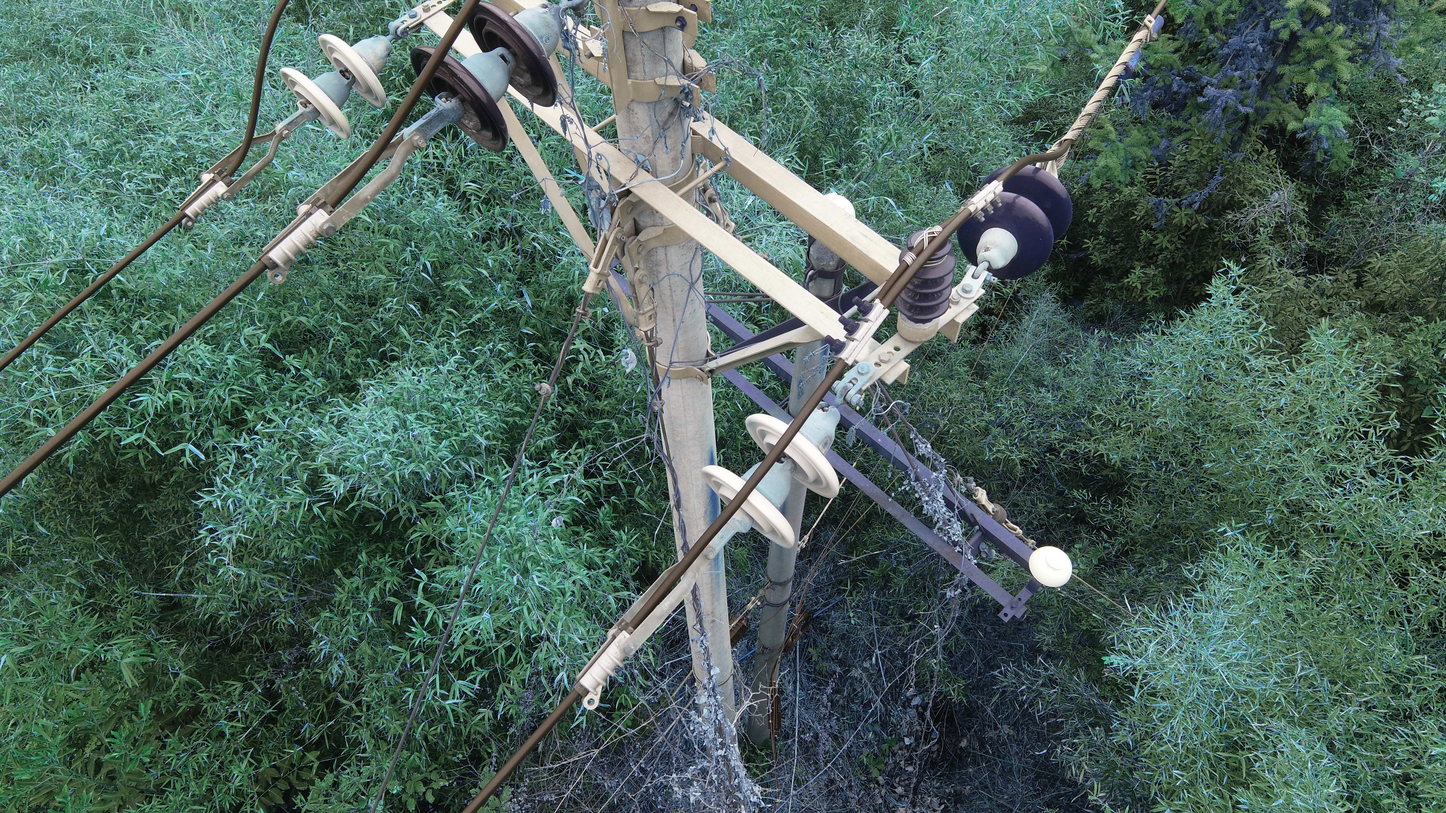severe_soiling_no_discharge_whole: (408, 5, 566, 158)
